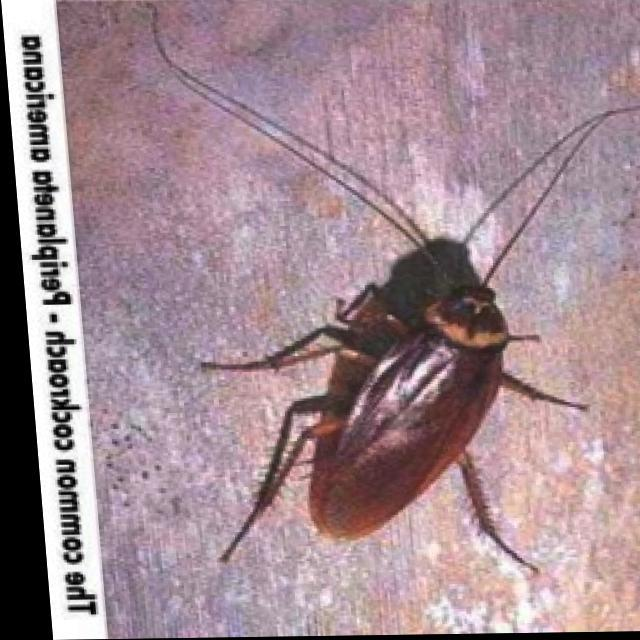cockroach: (304, 236, 512, 544)
